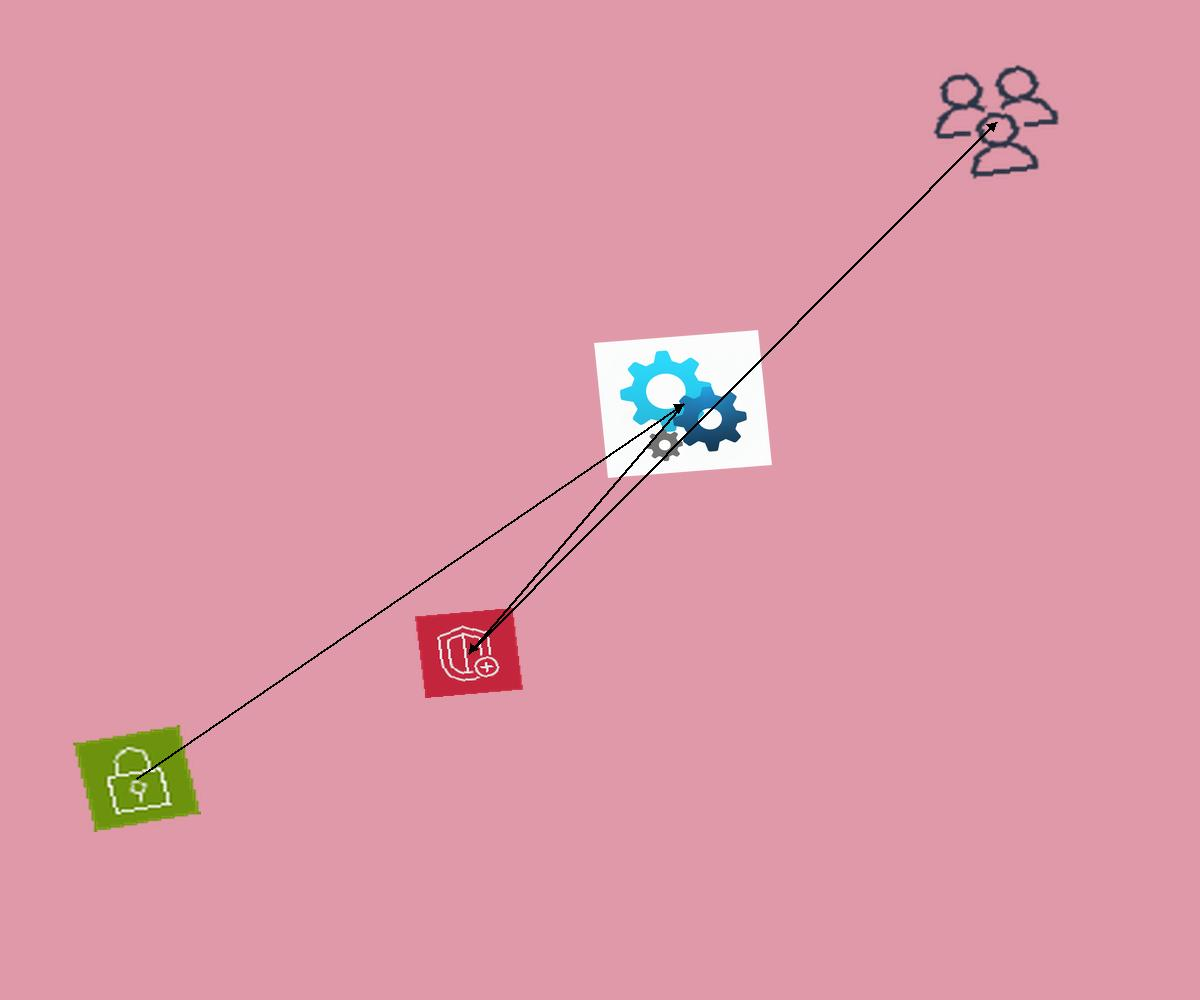AWS-Public-subnet: (73, 725, 201, 832)
AWS-Res_Users: (917, 56, 1075, 188)
AWS-Shield: (414, 607, 524, 699)
Azure_api: (594, 330, 772, 478)
